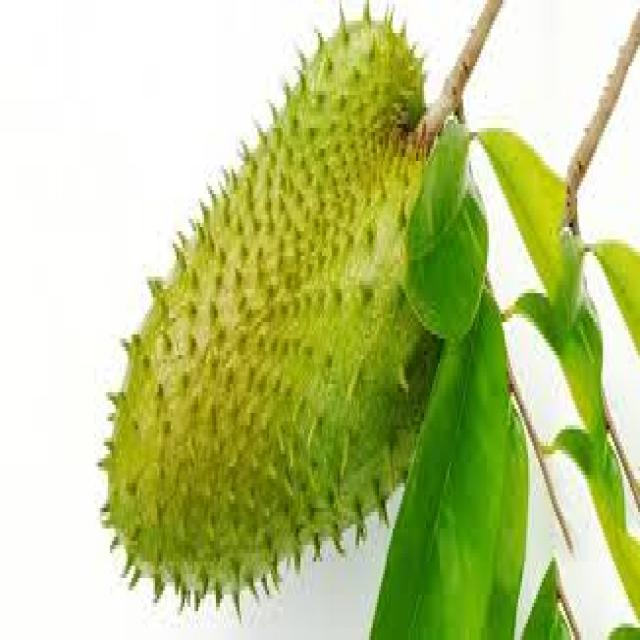organic waste: (96, 0, 465, 611), (369, 318, 524, 636), (406, 103, 487, 343), (473, 120, 577, 301), (498, 281, 602, 450), (589, 227, 638, 347), (522, 557, 575, 636), (538, 430, 612, 483), (589, 442, 622, 557), (616, 520, 638, 607), (609, 619, 638, 636)
